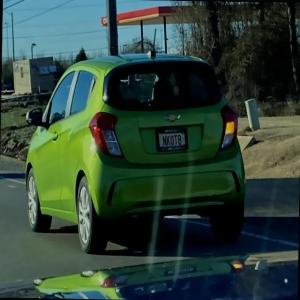Plate: (155, 128, 189, 151)
